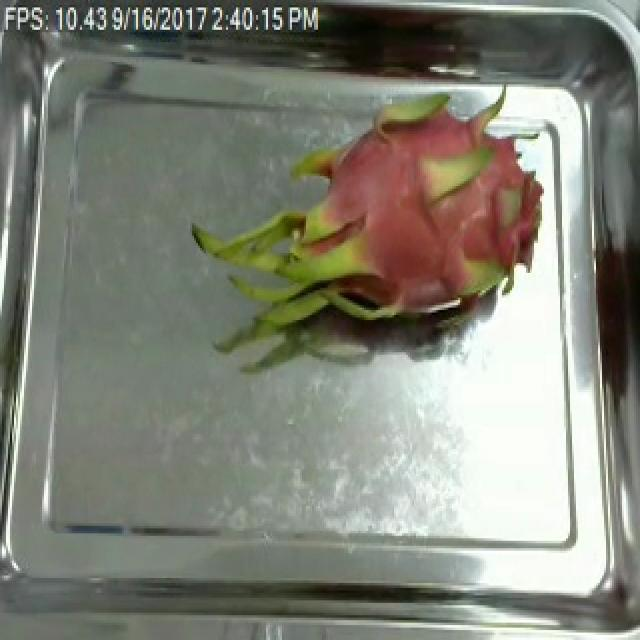fruit: (182, 42, 566, 392)
